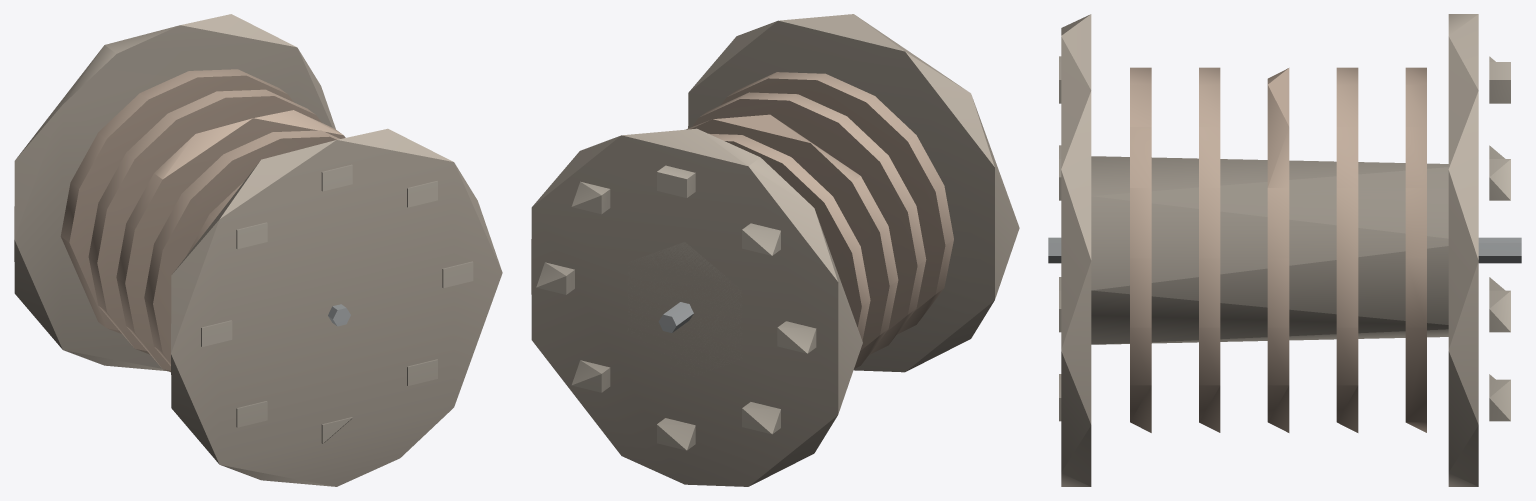
File: cable.lod1.glb
3 renders of one model, left to right at view 1: azimuth 30°, elevation 25°; view 2: azimuth 150°, elevation 25°; view 3: azimuth 270°, elevation 25°, orthographic. The views are drawn at different scales.
Size of the model in its own units: 1.1 by 1.1 by 1.1.
